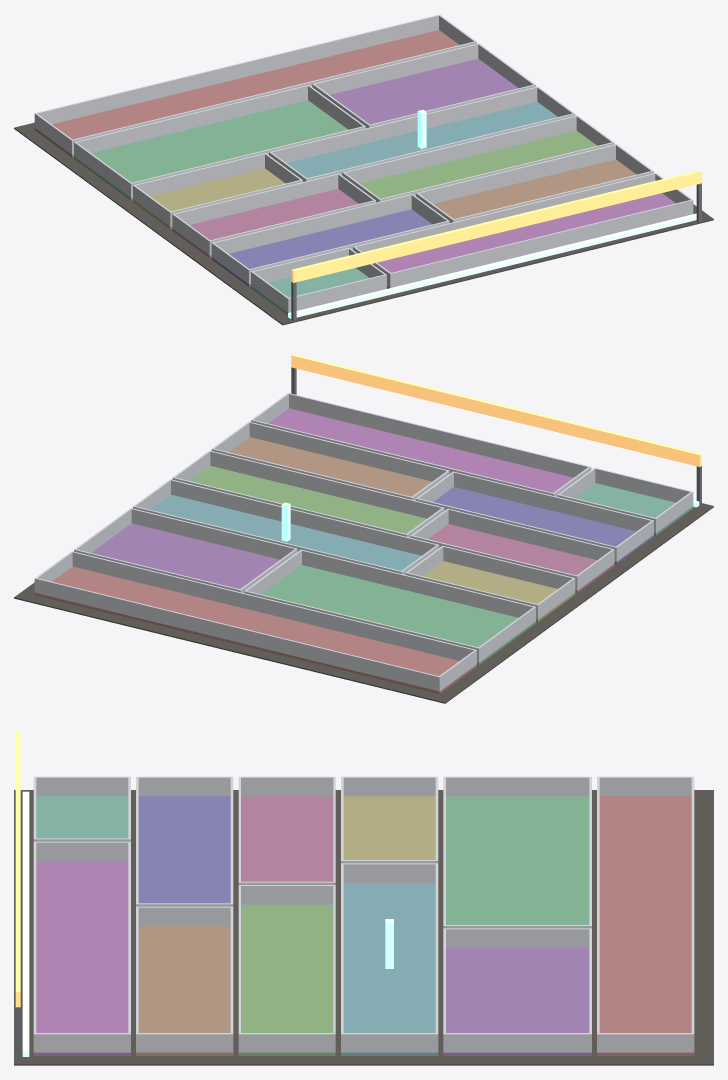
File: hall-cement-masons.glb
The picture shows the model from 3 angles, top to bottom: view 1: azimuth 30°, elevation 25°; view 2: azimuth 150°, elevation 25°; view 3: azimuth 270°, elevation 25°; orthographic projection. The views are drawn at different scales.
Visible parts, largest first — view 1: Cement Masons; view 2: Cement Masons; view 3: Cement Masons.
Boxes of the visible parts, <box> form: Cement Masons: <box>14,14,713,325</box>; Cement Masons: <box>14,354,713,703</box>; Cement Masons: <box>14,732,713,1065</box>.
Bounding box in the file's own units: 38 × 4.3 × 41.
